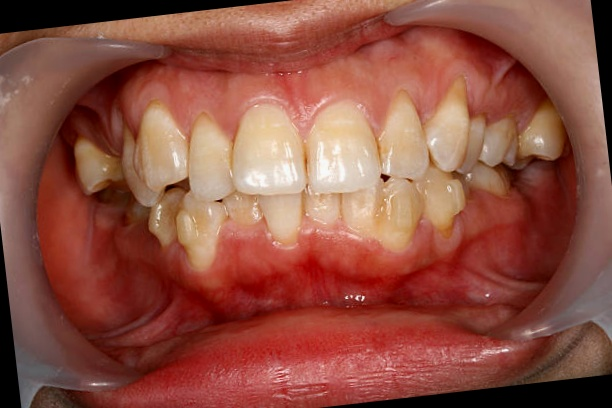Gingivitis: (177, 229, 485, 328)
